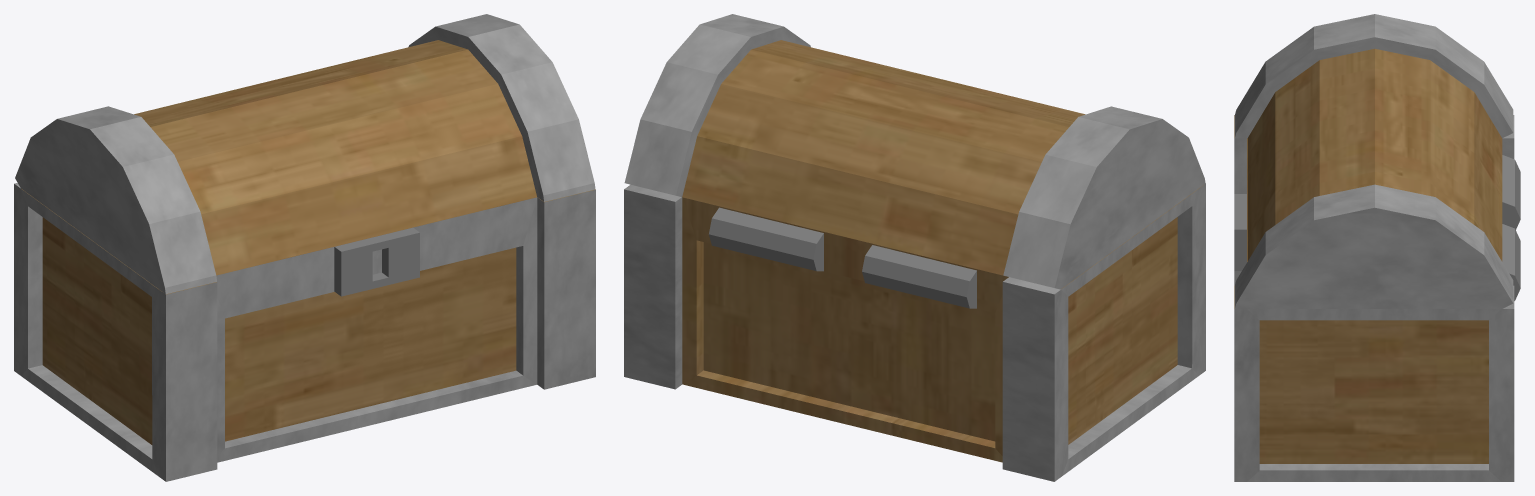
File: model_chest_base.fbx
3 views of the same model, side by side, from view 1: azimuth 30°, elevation 25°; view 2: azimuth 150°, elevation 25°; view 3: azimuth 270°, elevation 25° (orthographic). The views are drawn at different scales.
Visible parts, largest first — view 1: Chest_Closed; view 2: Chest_Closed; view 3: Chest_Closed.
Part boxes in pixels (x1,y1,x2,y2): Chest_Closed: [14, 14, 595, 481]; Chest_Closed: [624, 14, 1205, 481]; Chest_Closed: [1234, 14, 1520, 481].
Bounding box in the file's own units: 284 × 187 × 177.
Materials: 3 (2 with a texture image).
